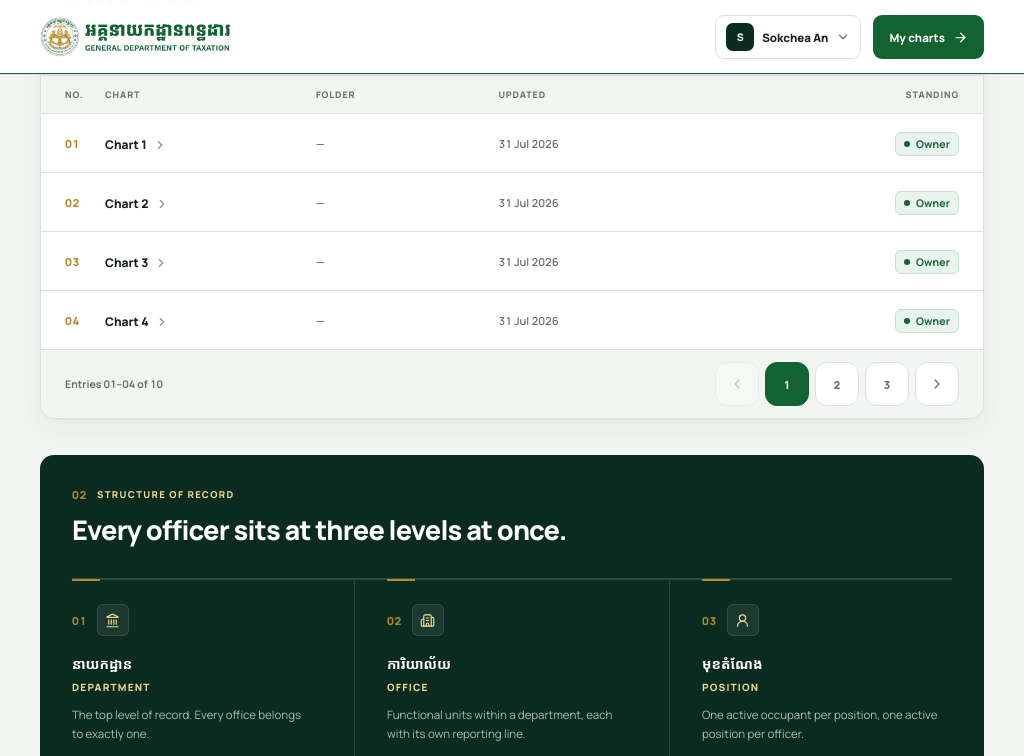
Test: LandingTestPage (register) › pages the register four entries at a time, numbering them continuously
(page scrolled)
Expected: the link "Chart 1" is shown, [105, 136, 167, 153]
Expected: the link "Chart 5" is not shown
# Page 2 — the next four, numbered 05–08.
Click the button named "Next entries".
click(937, 384)  # box [915, 362, 959, 406]
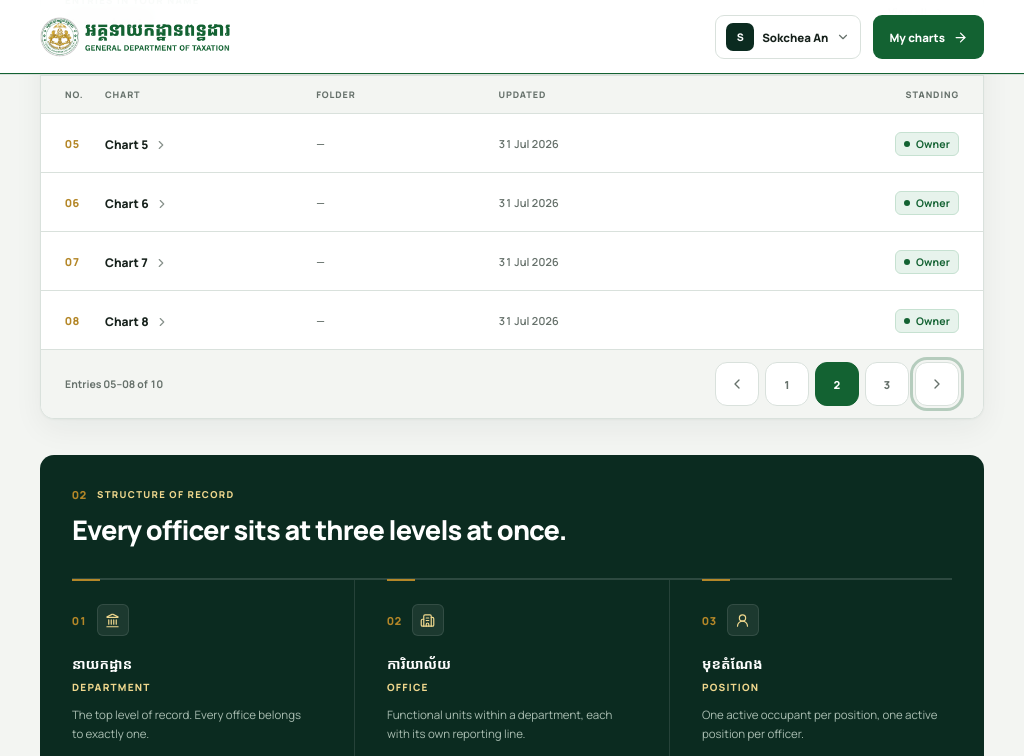
Expected: the link "Chart 1" is gone
Expected: the text "Entries 05–08 of 10" is shown, [65, 377, 163, 391]
# Page 3 — the remainder, and next becomes unavailable.
Click the button named "Page 3".
click(887, 384)  # box [865, 362, 909, 406]
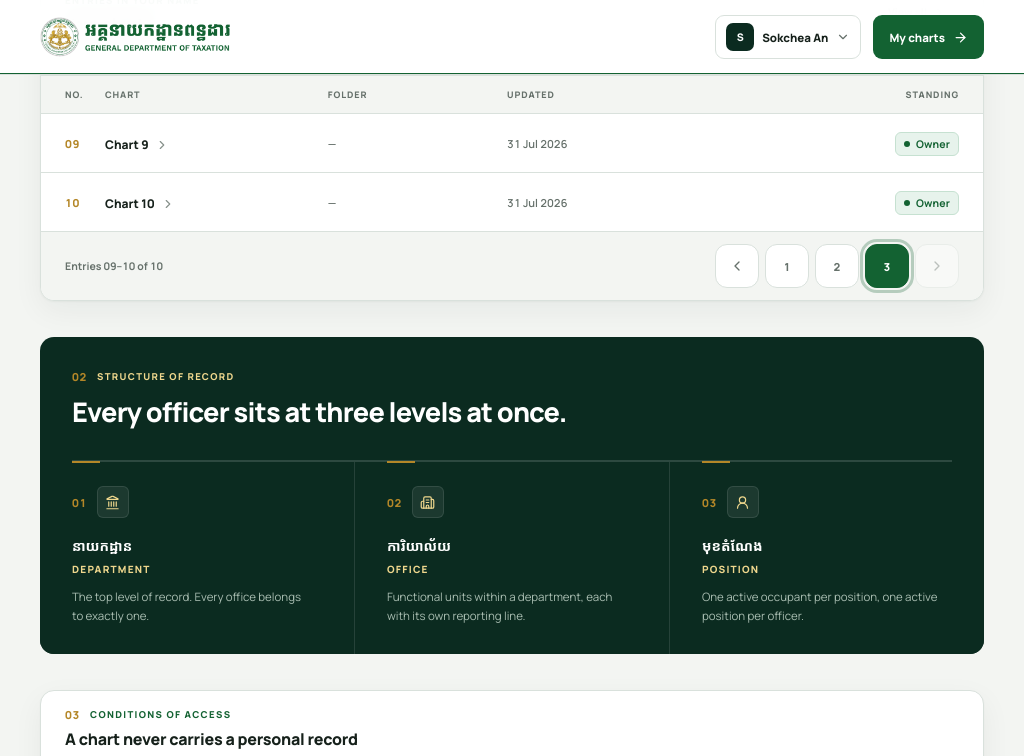
Expected: the text "Entries 09–10 of 10" is shown, [65, 259, 163, 273]
Expected: the button named "Next entries" is disabled, [915, 244, 959, 288]
